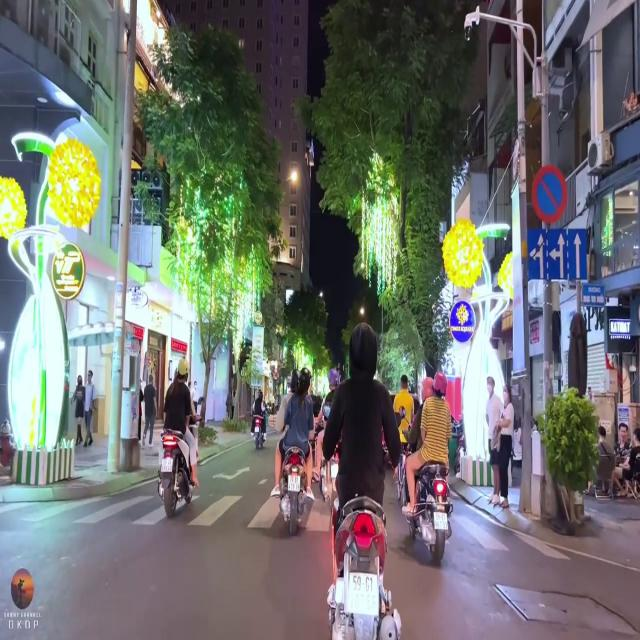bien_trang: (349, 572, 378, 616)
